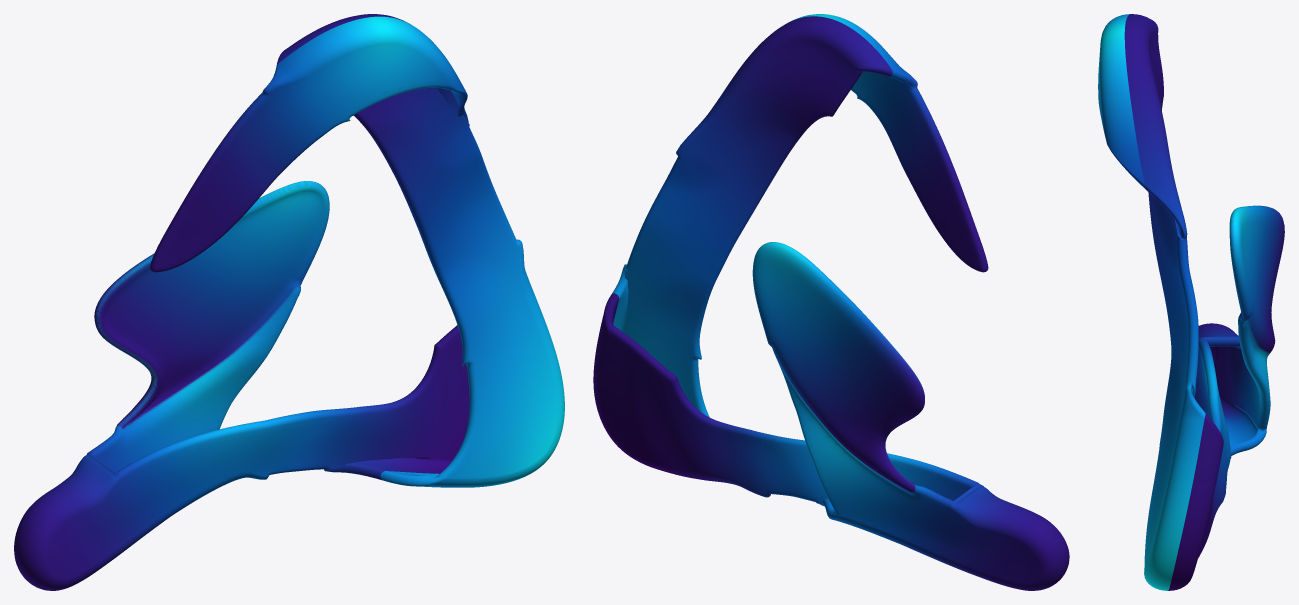
File: asheraatech-ribbon.glb
3 views of the same model, side by side, from view 1: azimuth 30°, elevation 25°; view 2: azimuth 150°, elevation 25°; view 3: azimuth 270°, elevation 25° (orthographic). The views are drawn at different scales.
Visible parts, largest first — view 1: ribbon; view 2: ribbon; view 3: ribbon.
Part boxes in pixels (box(x1,y1,x2,y2)): ribbon: box(14, 14, 564, 590); ribbon: box(593, 14, 1069, 590); ribbon: box(1098, 14, 1284, 590).
Size of the model in its own units: 1 by 0.967 by 0.3264.
1 material, 1 textured.
